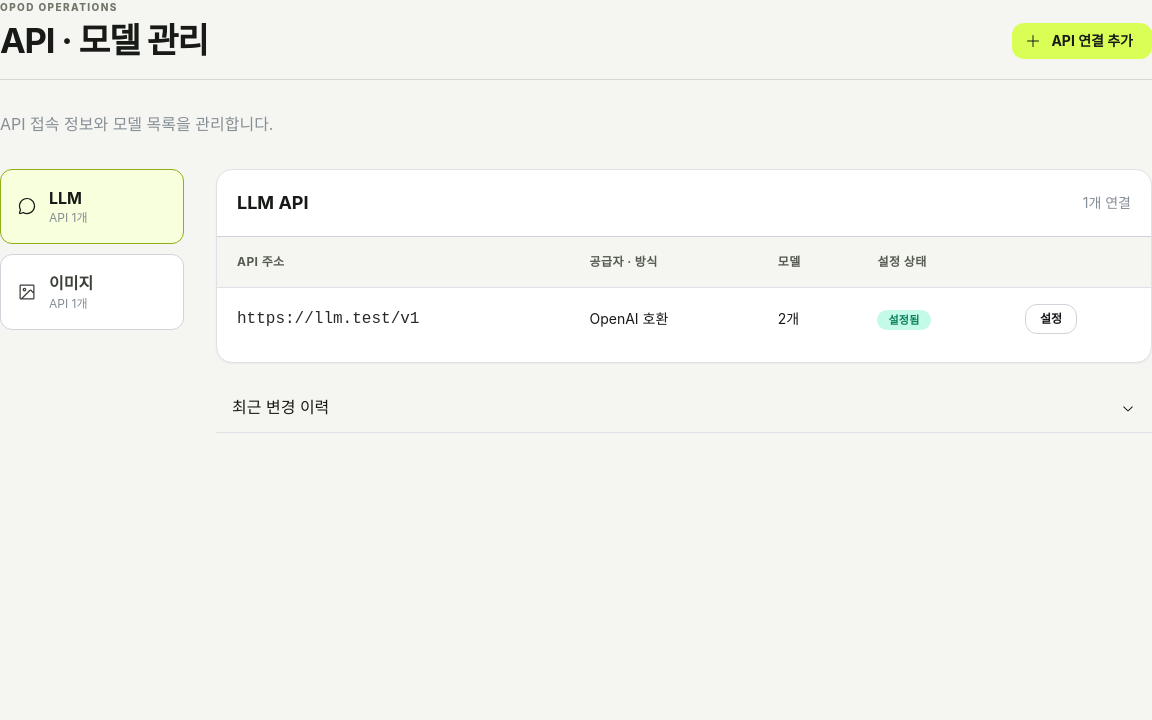
Test: AI settings screens › keeps API details in a popup, registers models there, and separates LLM/image catalogs
Expected: the button "https://llm.test/v1" is shown, [237,307,419,332]
Expected: the text "https://image.test/api/v1" is not shown
Click the button with aria-label "https://llm.test/v1 설정" at (1051, 319), box [1025,304,1077,334]
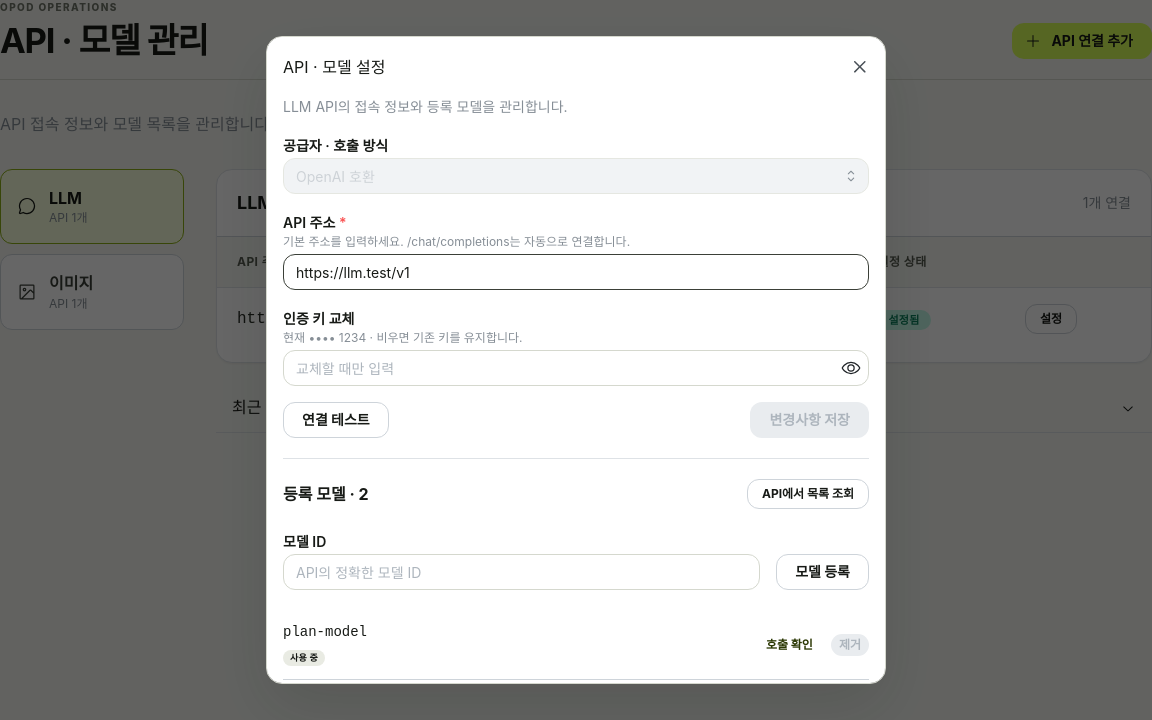
Expected: the password field labelled "인증 키 교체" is empty, [284,352,868,386]
Type "new-model" into the dropdown labelled "모델 ID" at (522, 572), box [283,554,760,590]
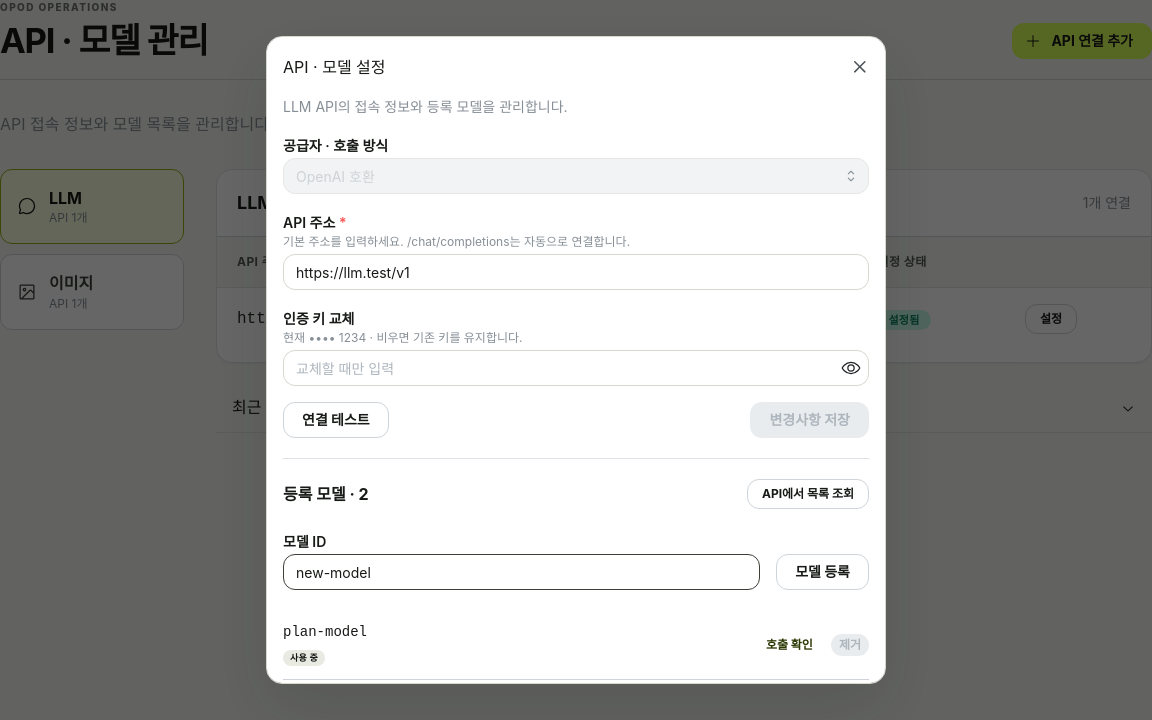
Click the button "모델 등록" at (823, 572), box [776,554,869,590]
(page scrolled)
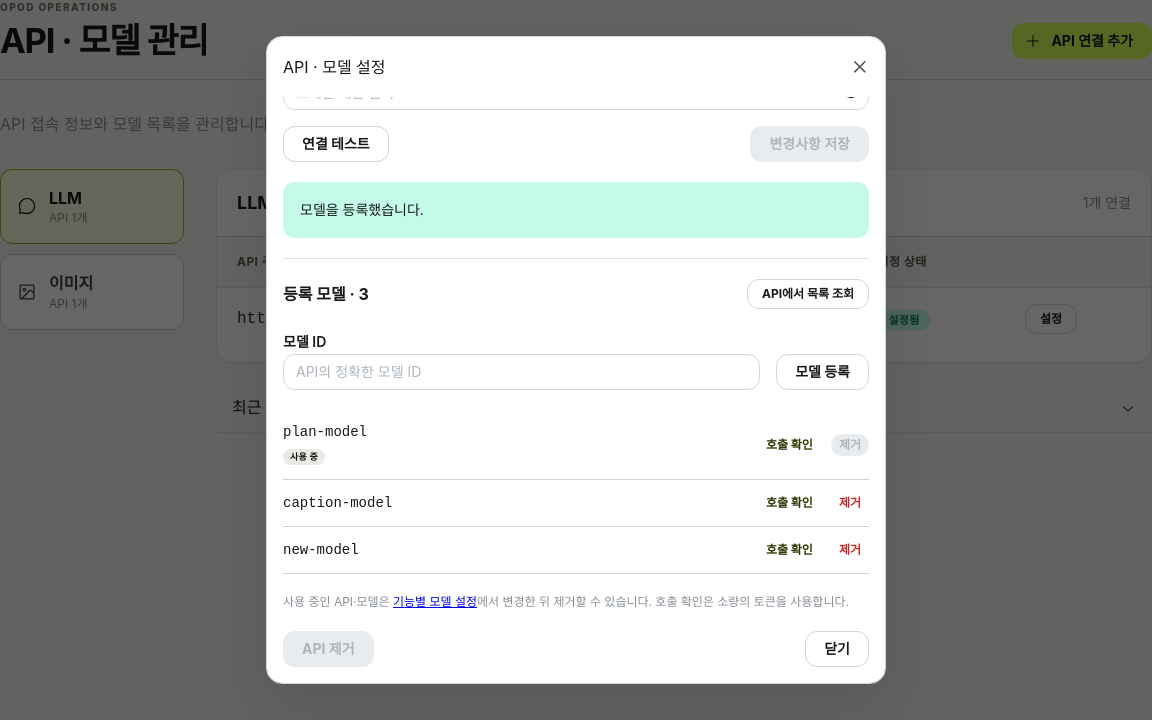
Expected: the text "new-model" is shown, [283,540,359,560]
Click the button "닫기" at (837, 649), box [805,631,869,667]
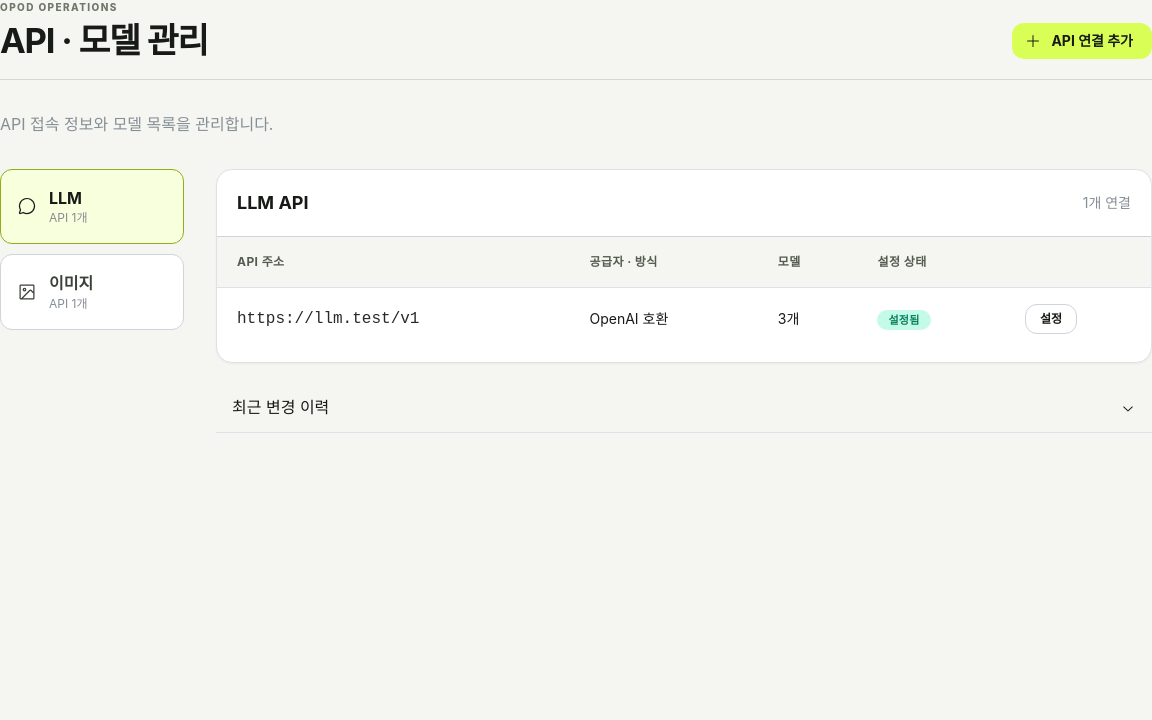
Expected: the dialog is gone
Click the button "이미지 API 1개" at (92, 292), box [0,254,184,330]
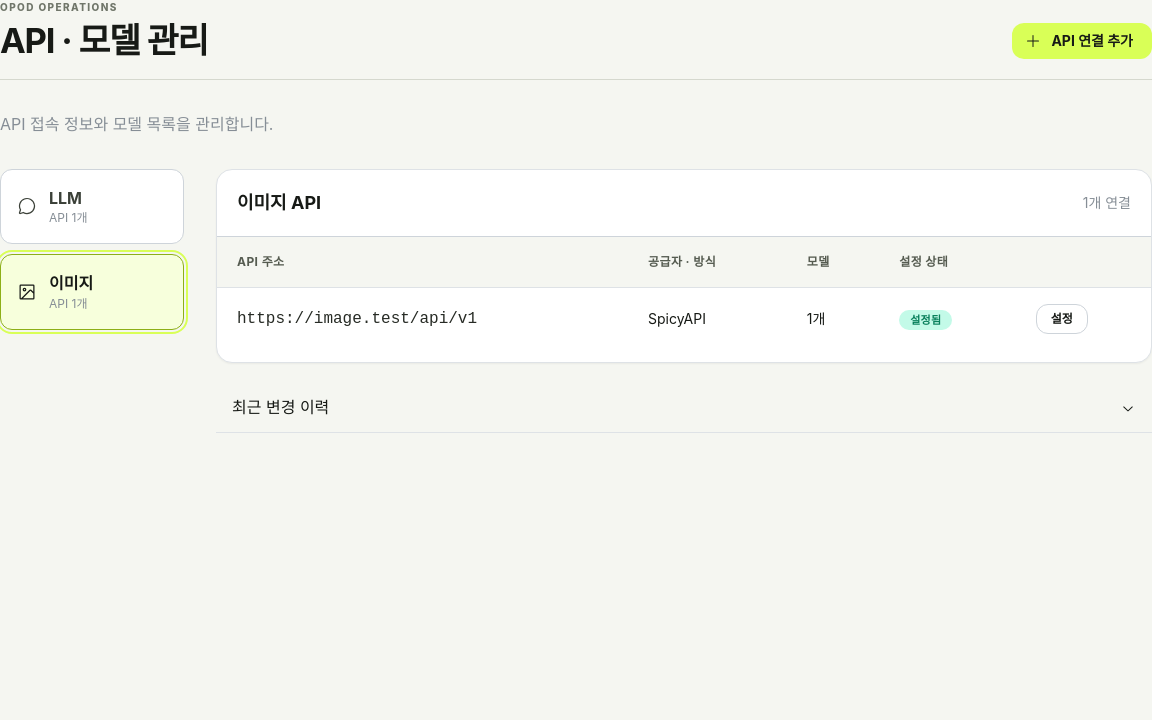
Expected: the button "https://image.test/api/v1" is shown, [237,307,477,332]
Expected: the button "https://llm.test/v1" is gone
